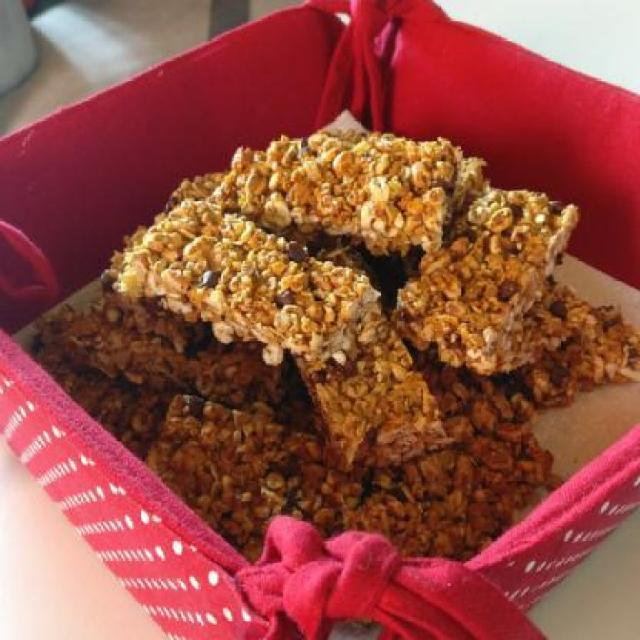Cereal bar packaged: (111, 207, 372, 370), (402, 179, 576, 373), (231, 132, 452, 234)
